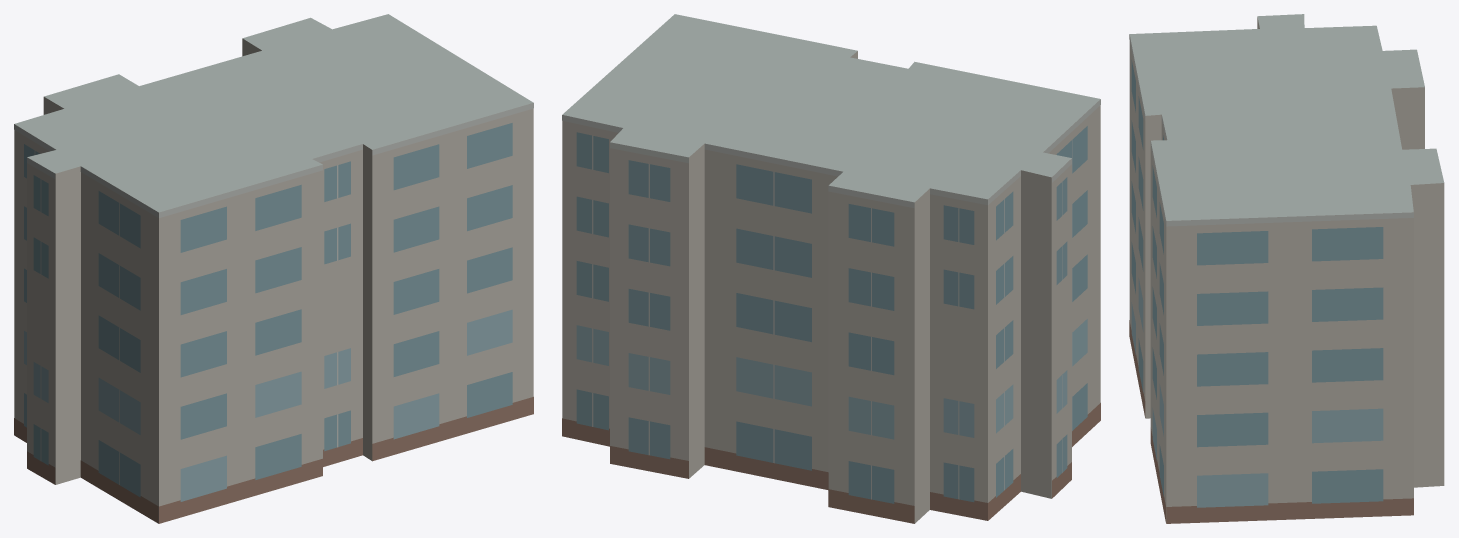
File: survey-upis-32955559.glb
3 renders of one model, left to right at view 1: azimuth 30°, elevation 25°; view 2: azimuth 150°, elevation 25°; view 3: azimuth 270°, elevation 25°, orthographic. The views are drawn at different scales.
Visible parts, largest first — view 1: survey-upis-32955559.tmp; view 2: survey-upis-32955559.tmp; view 3: survey-upis-32955559.tmp.
Boxes of the visible parts, x1,y1,x2,y2 form: survey-upis-32955559.tmp: (14,14,533,523); survey-upis-32955559.tmp: (562,14,1100,523); survey-upis-32955559.tmp: (1129,14,1444,523).
Size of the model in its own units: 19.5 by 13.3 by 12.54.
